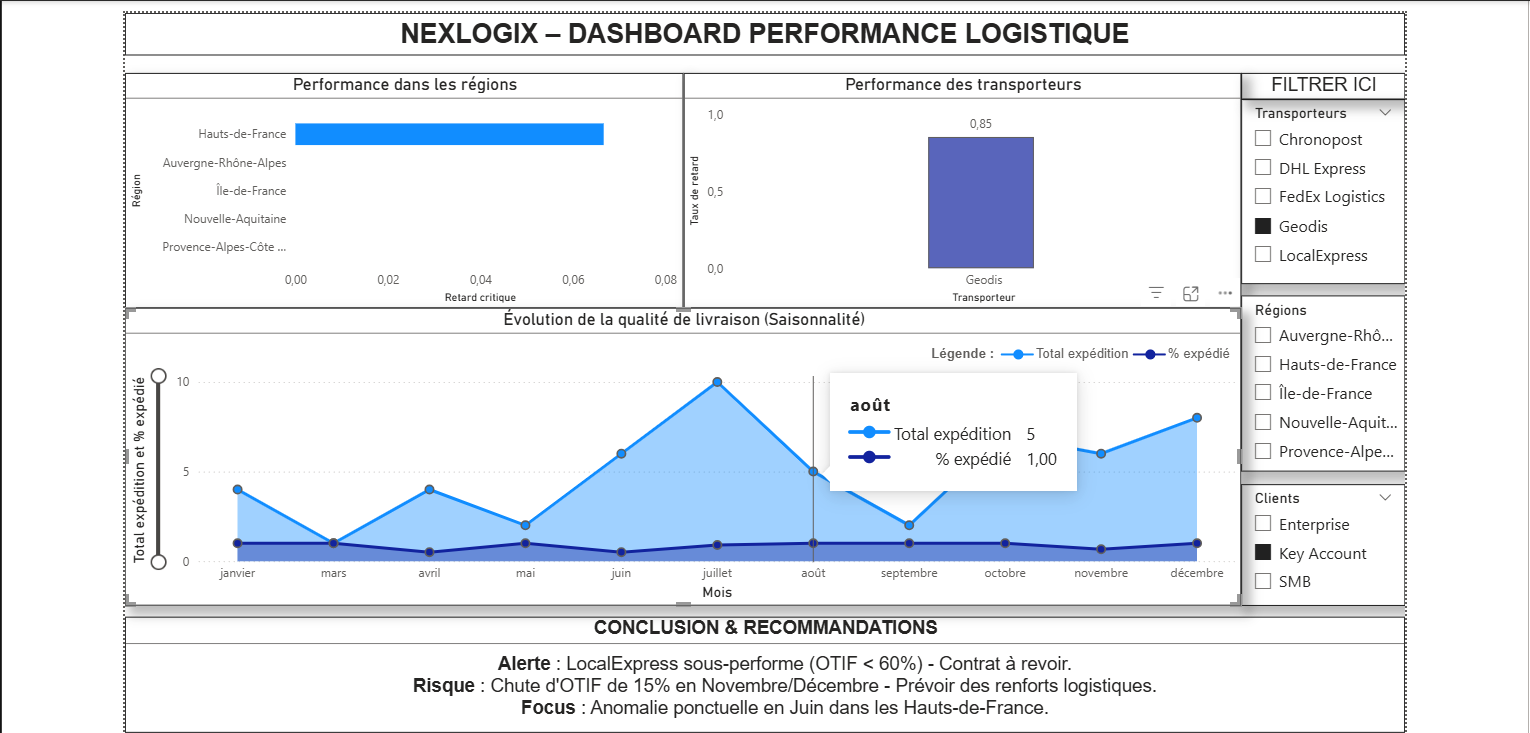

This screenshot's page, from the dashboard's own definition file:
{"tool":"powerbi","page":{"name":"Synthèse logistique","canvas":[1280,720],"ordinal":0},"visuals":[{"type":"clusteredBarChart","title":"Performance dans les régions","fields":{"Category":["v_performance_logistique.region_name"],"Y":["v_performance_logistique.% Retard Critique"]},"box":[0,60,558.8,235],"z":0},{"type":"clusteredColumnChart","title":"Performance des transporteurs","fields":{"Category":["v_performance_logistique.carrier_name"],"Y":["v_performance_logistique.OTIF %"]},"box":[558.8,60,557.5,235],"z":1000},{"type":"lineChart","title":"Évolution de la qualité de livraison (Saisonnalité)","fields":{"Category":["v_performance_logistique.order_date.Variation.Hiérarchie de dates.Mois"],"Y":["v_performance_logistique.Total Expéditions","v_performance_logistique.OTIF %"]},"box":[0,295,1116.2,297.5],"z":2000},{"type":"slicer","fields":{"Values":["v_performance_logistique.carrier_name"]},"box":[1116.2,86.2,163.8,185],"z":3000},{"type":"slicer","fields":{"Values":["v_performance_logistique.region_name"]},"box":[1116.2,282.5,163.8,176.2],"z":4000},{"type":"slicer","fields":{"Values":["v_performance_logistique.customer_segment"]},"box":[1116.2,471.2,163.8,121.2],"z":5000},{"type":"textbox","title":"CONCLUSION & RECOMMANDATIONS","box":[0,603.8,1280,116.2],"z":6000},{"type":"textbox","box":[0,0,1280,42.5],"z":7000},{"type":"textbox","title":"FILTRER ICI","box":[1116.2,60,163.8,532.5],"z":7001}]}

Visuals, with their boxes in screenshot pixels (x1, y1, x2, y2):
"Performance dans les régions" clusteredBarChart: [116, 68, 677, 304]
"Performance des transporteurs" clusteredColumnChart: [677, 68, 1236, 304]
"Évolution de la qualité de livraison (Saisonnalité)" lineChart: [116, 304, 1236, 603]
slicer - v_performance_logistique.carrier_name: [1236, 95, 1401, 280]
slicer - v_performance_logistique.region_name: [1236, 292, 1401, 469]
slicer - v_performance_logistique.customer_segment: [1236, 481, 1401, 603]
"CONCLUSION & RECOMMANDATIONS" textbox: [116, 614, 1401, 731]
textbox: [116, 8, 1401, 51]
"FILTRER ICI" textbox: [1236, 68, 1401, 603]
